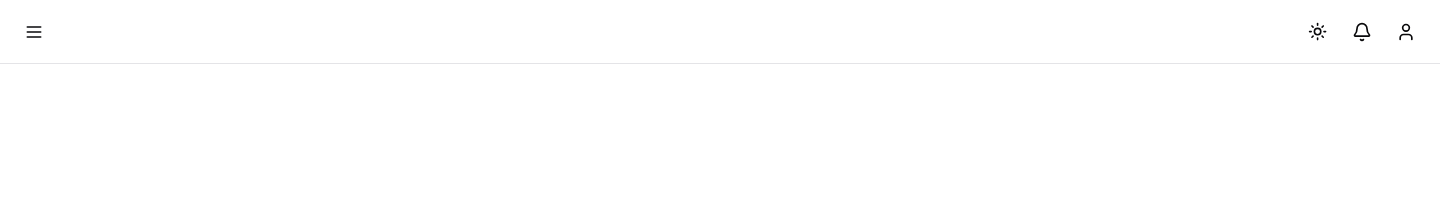
Header › should display user name in dropdown
The width and height of the screenshot is (1440, 212).
Step 1. Click the button with test id "user-menu-button" → (1406, 32), box [1388,14,1424,50]
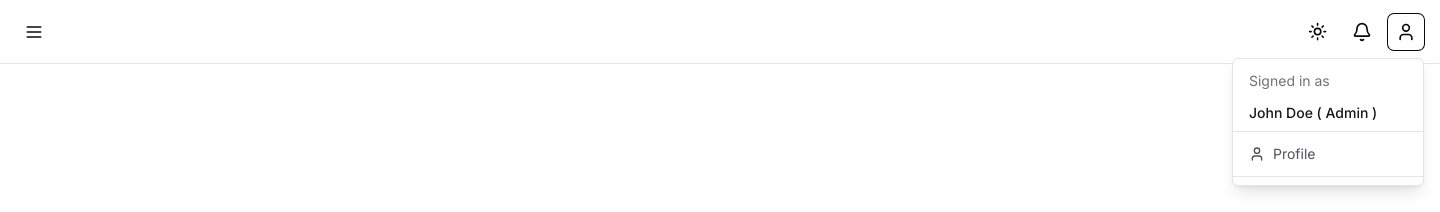
Expected: the text "John Doe ( admin )" is shown, [1249,104,1377,120]
